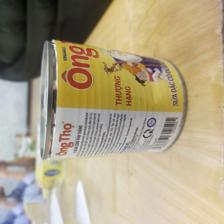Ong_tho: (38, 38, 188, 159)
